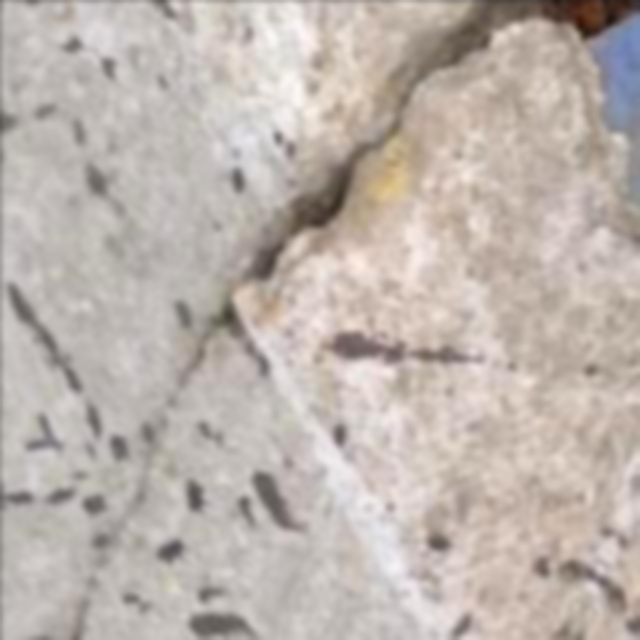SurfaceCrack: (110, 2, 640, 472)
